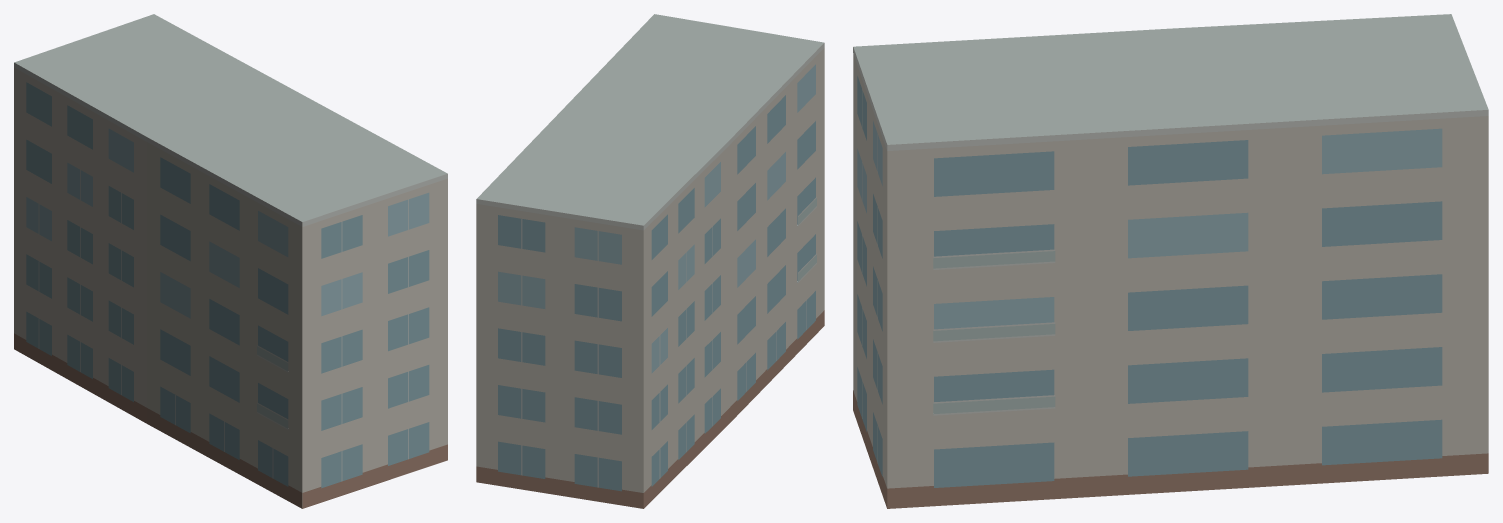
The model's file is survey-upis-32576844.glb.
The picture shows the model from 3 angles, left to right: view 1: azimuth 30°, elevation 25°; view 2: azimuth 150°, elevation 25°; view 3: azimuth 270°, elevation 25°; orthographic projection. The views are drawn at different scales.
Parts seen in each view (by area): view 1: survey-upis-32576844.tmp; view 2: survey-upis-32576844.tmp; view 3: survey-upis-32576844.tmp.
Part boxes in pixels (x1=…): survey-upis-32576844.tmp: x1=14, y1=14, x2=447, y2=508; survey-upis-32576844.tmp: x1=476, y1=14, x2=824, y2=508; survey-upis-32576844.tmp: x1=853, y1=14, x2=1488, y2=508.
Size of the model in its own units: 11.05 by 14.3 by 22.64.
